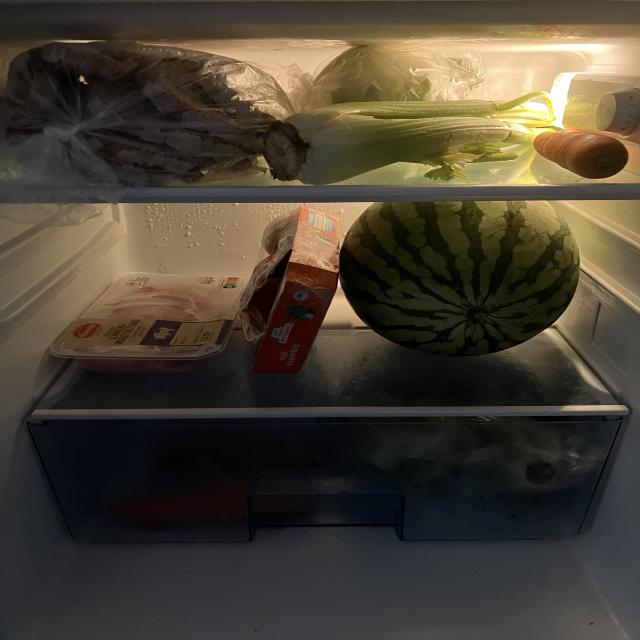Apples: (253, 210, 334, 371)
Celery: (268, 103, 540, 175)
Pork: (55, 270, 240, 368)
Vegetable: (357, 406, 602, 520), (107, 479, 270, 532)
Watermelon: (346, 198, 587, 356)
bread: (0, 36, 266, 180)
cabbage: (303, 40, 488, 100)
carrot: (532, 123, 633, 182)
